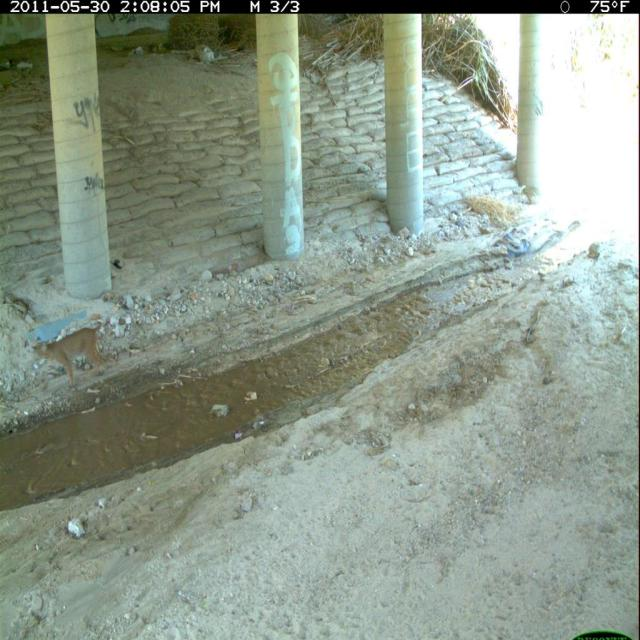bobcat: (30, 319, 112, 393)
